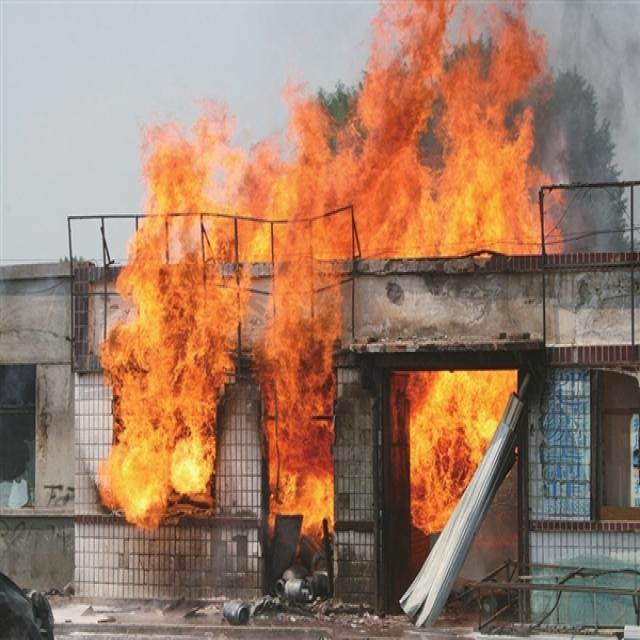Fire: (96, 217, 242, 529), (360, 3, 539, 253), (244, 222, 338, 521), (140, 91, 359, 213), (406, 368, 512, 536)
